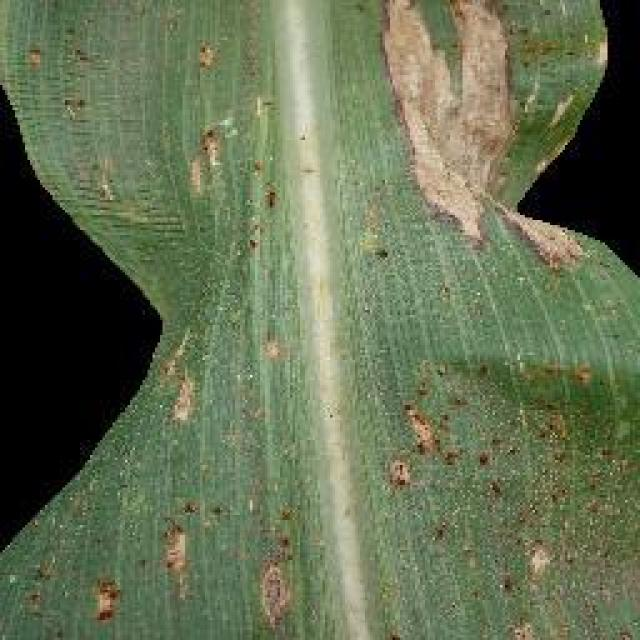Corn Common Rust: (145, 65, 640, 605)
